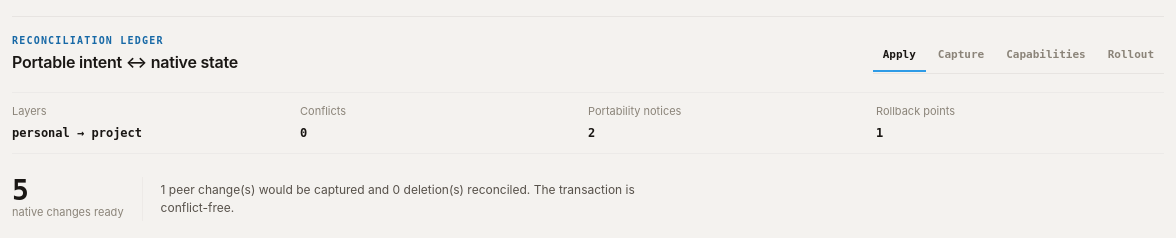
PortabilityPanel › shows layered apply and capture previews without mutating state
Expected: the text "personal → project" is shown, left=12, top=126, right=142, bottom=140
Expected: the text "native changes ready" is shown, left=12, top=205, right=124, bottom=221
Click the tab "capture": (961,55) left=928, top=38, right=994, bottom=72
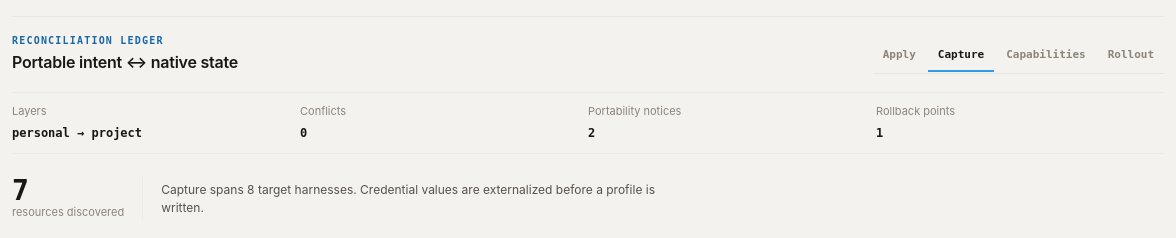
Now the text "resources discovered" is shown, box left=12, top=205, right=124, bottom=221
Now the text "8 target harnesses" is shown, box left=161, top=181, right=676, bottom=218
